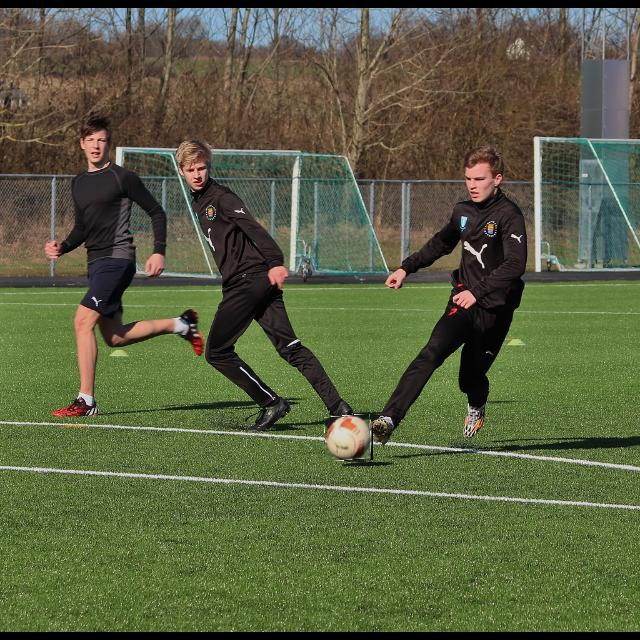Football: (325, 416, 373, 460)
